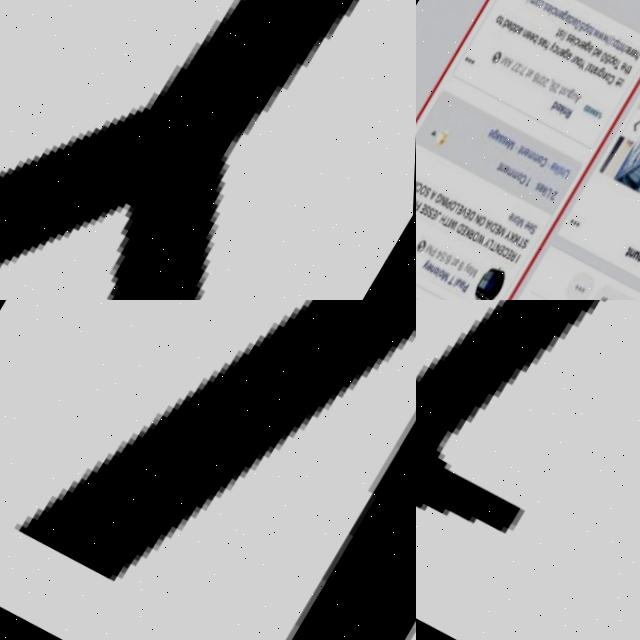0: (438, 250, 446, 262)
1: (416, 300, 640, 640), (578, 23, 587, 35), (442, 253, 450, 264), (605, 57, 613, 68)
2: (531, 73, 543, 87), (447, 255, 456, 267)
3: (521, 68, 529, 79), (513, 63, 521, 74)
5: (459, 262, 468, 274), (550, 83, 558, 95)
A: (505, 59, 516, 72), (461, 281, 470, 292), (575, 97, 583, 109), (431, 191, 439, 203), (566, 54, 575, 64), (456, 259, 464, 270), (496, 134, 504, 145), (593, 68, 601, 79), (541, 40, 549, 51), (596, 51, 604, 62), (572, 19, 580, 30), (566, 16, 574, 27), (486, 221, 494, 232), (469, 267, 477, 277), (529, 71, 537, 81), (518, 28, 525, 38), (588, 47, 595, 56), (416, 180, 419, 191)
B: (532, 36, 540, 48)
C: (520, 175, 531, 188), (608, 77, 619, 90), (416, 182, 426, 195), (541, 160, 551, 172), (504, 248, 513, 261), (574, 39, 582, 50), (553, 47, 560, 57), (552, 9, 559, 18), (539, 2, 546, 11)
D: (490, 223, 501, 236), (502, 20, 512, 33), (458, 223, 468, 236), (513, 26, 522, 38), (509, 25, 518, 37), (592, 49, 601, 61), (469, 212, 478, 223), (552, 104, 560, 115), (568, 19, 576, 29)
E: (495, 226, 505, 238), (462, 226, 471, 238), (421, 204, 430, 216), (459, 206, 468, 218), (433, 210, 442, 222), (524, 149, 533, 160), (556, 104, 565, 115), (508, 251, 517, 262), (504, 167, 513, 177), (506, 22, 515, 32), (580, 43, 589, 53), (569, 37, 578, 47), (552, 164, 560, 175), (559, 50, 567, 61), (501, 247, 509, 258), (466, 210, 474, 221), (529, 225, 537, 235), (526, 223, 534, 233), (510, 215, 518, 225), (540, 186, 548, 196), (505, 139, 513, 149), (489, 130, 497, 140), (529, 34, 537, 44), (621, 65, 629, 75), (626, 49, 634, 59), (558, 12, 566, 22), (547, 6, 555, 16), (429, 264, 436, 273), (527, 33, 534, 42), (632, 52, 639, 61)
F: (416, 202, 425, 213)
G: (435, 193, 447, 207), (584, 43, 594, 56), (568, 91, 578, 103), (563, 50, 572, 63), (493, 130, 502, 142), (599, 71, 607, 81), (562, 13, 570, 23)
H: (440, 214, 451, 227), (624, 66, 632, 78), (544, 43, 552, 54), (620, 47, 628, 57), (634, 54, 640, 64)
I: (545, 190, 552, 200), (449, 219, 456, 229), (445, 200, 452, 209), (557, 169, 563, 178), (518, 257, 524, 266), (518, 239, 524, 248), (490, 224, 496, 233), (572, 40, 578, 48), (562, 34, 567, 43), (550, 9, 555, 17), (416, 183, 420, 192)
J: (436, 211, 445, 224)
K: (558, 107, 567, 118), (466, 229, 475, 240), (515, 236, 523, 248), (511, 234, 519, 246), (542, 187, 550, 198), (553, 166, 561, 177)
L: (489, 240, 497, 252), (547, 190, 555, 201), (455, 204, 463, 215), (438, 270, 445, 279), (559, 169, 565, 179), (456, 280, 462, 289), (563, 35, 568, 43)
M: (471, 269, 482, 281), (499, 228, 510, 240), (501, 57, 511, 70), (444, 272, 454, 284), (427, 245, 437, 257), (518, 220, 528, 232), (508, 142, 518, 154), (513, 171, 523, 182), (529, 152, 539, 163), (534, 155, 543, 165), (509, 170, 517, 179), (530, 0, 539, 7)
N: (440, 196, 451, 209), (496, 244, 506, 257), (475, 215, 485, 228), (630, 251, 640, 262), (501, 164, 510, 175), (431, 265, 440, 275), (521, 148, 530, 158), (602, 74, 610, 83), (562, 170, 569, 179), (564, 109, 571, 118), (557, 49, 564, 58), (523, 31, 530, 40), (578, 42, 585, 51), (555, 11, 562, 20)
O: (479, 217, 491, 230), (450, 201, 461, 215), (420, 185, 431, 198), (495, 15, 505, 27), (473, 233, 483, 245), (440, 270, 448, 281), (518, 174, 526, 185), (613, 60, 621, 71), (435, 267, 443, 277), (539, 158, 547, 167), (606, 76, 614, 85), (535, 0, 542, 10), (516, 218, 523, 227), (578, 61, 585, 70), (587, 28, 594, 37), (638, 254, 640, 267)
P: (446, 199, 456, 211), (432, 248, 441, 259), (609, 58, 618, 68), (613, 41, 622, 51), (465, 284, 473, 295)
R: (512, 253, 521, 264), (470, 230, 478, 242), (567, 112, 575, 123), (513, 216, 520, 225), (416, 199, 421, 211), (596, 71, 603, 79), (572, 57, 578, 66), (630, 51, 636, 60)
S: (531, 226, 541, 239), (537, 38, 546, 49), (543, 4, 552, 15), (425, 206, 434, 217), (425, 188, 434, 199), (429, 208, 437, 220), (524, 241, 532, 253), (537, 183, 545, 194), (502, 137, 510, 148), (499, 136, 507, 146), (562, 89, 570, 99), (588, 66, 596, 76), (567, 36, 574, 45), (559, 31, 566, 40)
T: (445, 218, 454, 229), (627, 68, 635, 80), (451, 276, 459, 288), (627, 250, 635, 261), (498, 163, 506, 174), (499, 18, 507, 29), (615, 62, 623, 73), (493, 243, 501, 254), (520, 239, 528, 250), (590, 68, 598, 78), (559, 88, 566, 99), (519, 147, 526, 157), (453, 259, 460, 269), (526, 70, 533, 80), (556, 30, 563, 40), (619, 45, 625, 55), (616, 44, 622, 54), (590, 30, 596, 39)
U: (563, 171, 574, 184), (574, 58, 582, 69), (565, 91, 573, 100), (459, 280, 466, 289), (573, 95, 580, 104), (635, 254, 640, 264)
V: (3, 300, 416, 640), (463, 208, 471, 220)
W: (451, 220, 462, 233), (479, 235, 489, 247), (602, 36, 612, 47), (593, 31, 602, 42), (598, 34, 607, 44)
Y: (0, 0, 416, 300), (549, 43, 559, 55), (506, 232, 516, 244), (466, 262, 475, 274), (425, 260, 433, 271), (580, 62, 588, 73), (486, 239, 494, 250)
